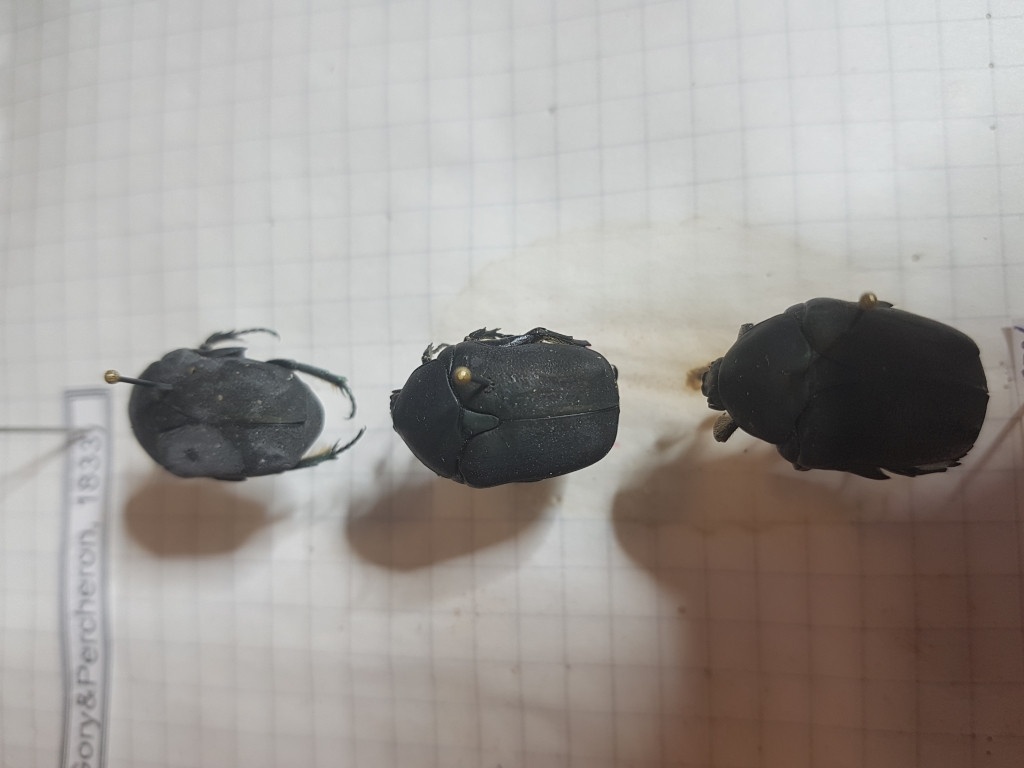Protaetia_afflicta: (688, 279, 998, 495), (109, 320, 375, 493), (373, 319, 623, 495)
